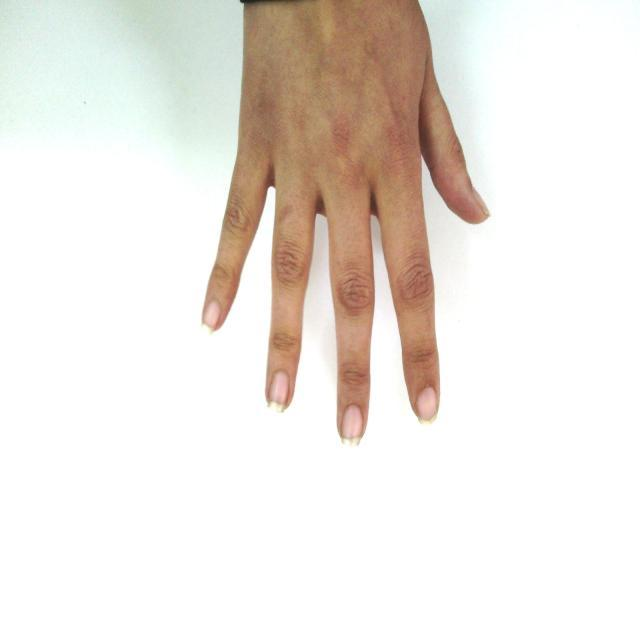Fingernail: (342, 406, 362, 446), (270, 372, 289, 412), (417, 388, 436, 424), (203, 303, 219, 332), (473, 191, 489, 216)
